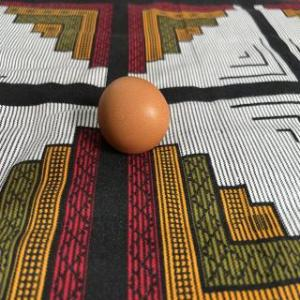egg: (94, 72, 169, 156)
